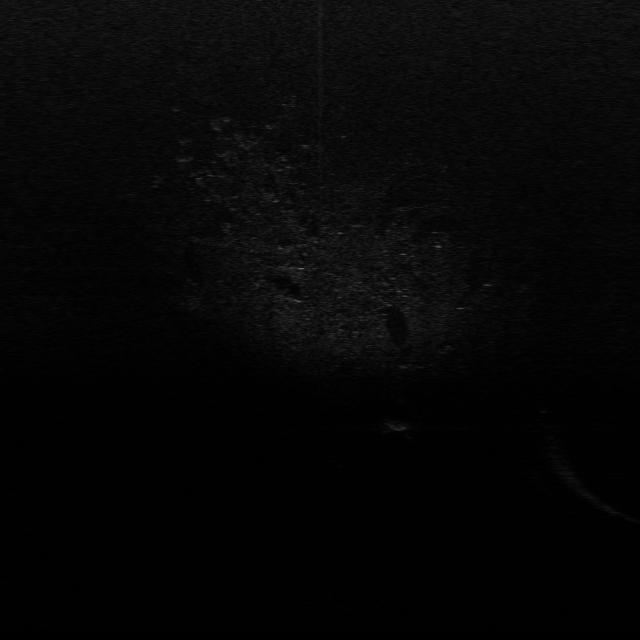square cage: (380, 416, 416, 434)
